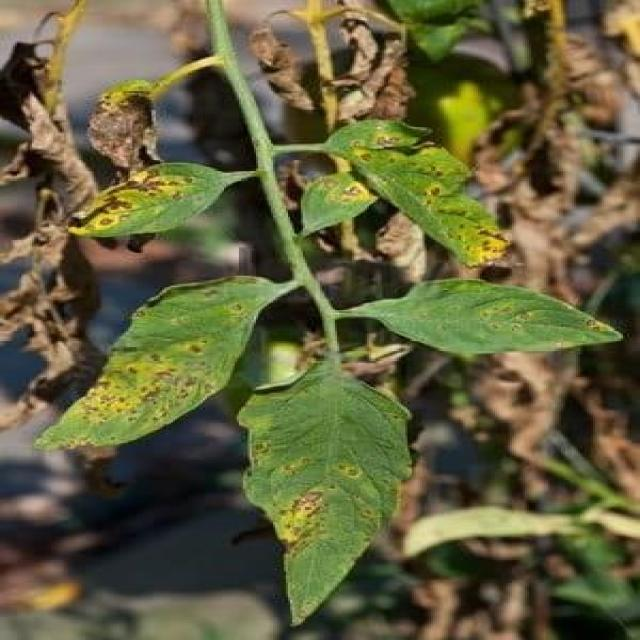Septoria: (235, 360, 414, 629), (34, 271, 275, 450), (322, 114, 514, 269), (367, 277, 625, 362), (62, 162, 222, 238), (298, 168, 378, 233)
